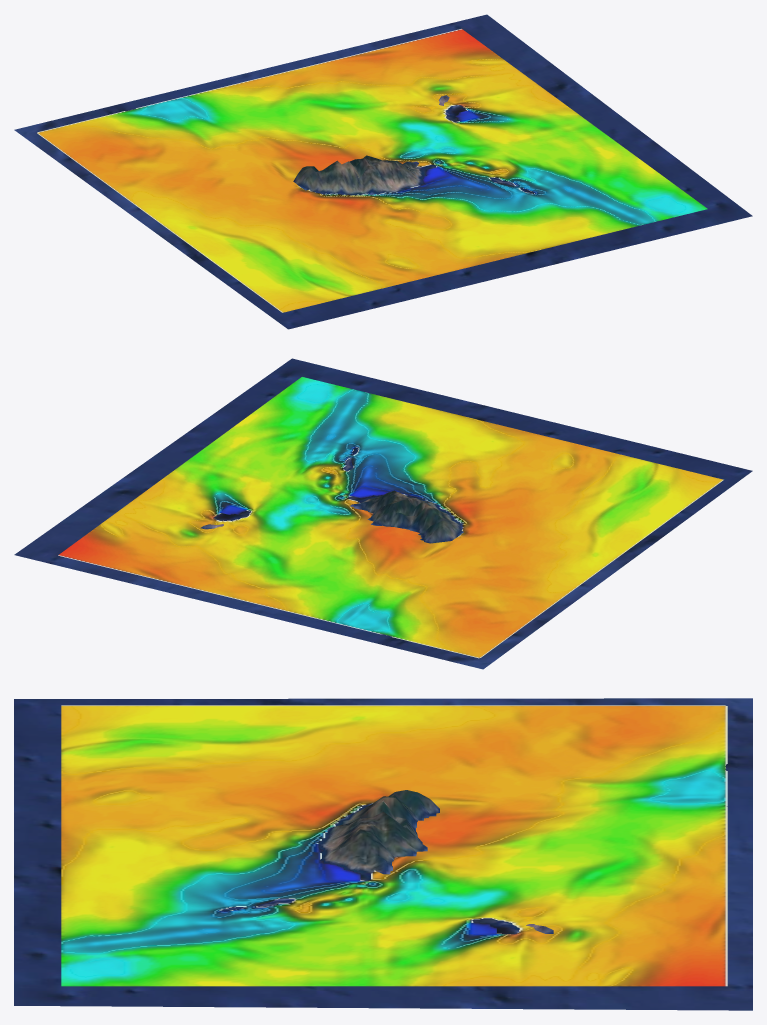
File: madeira_map.fbx
3 renders of one model, top to bottom at view 1: azimuth 30°, elevation 25°; view 2: azimuth 150°, elevation 25°; view 3: azimuth 270°, elevation 25°, orthographic. The views are drawn at different scales.
Parts seen in each view (by area): view 1: wave1_new2, EXPORT_GOOGLE_SAT_WM; view 2: wave1_new2, EXPORT_GOOGLE_SAT_WM; view 3: wave1_new2, EXPORT_GOOGLE_SAT_WM.
Boxes of the visible parts, <box> form: wave1_new2: <box>37,29,707,312</box>; EXPORT_GOOGLE_SAT_WM: <box>14,14,752,329</box>; wave1_new2: <box>58,377,723,658</box>; EXPORT_GOOGLE_SAT_WM: <box>14,358,752,669</box>; wave1_new2: <box>61,705,727,986</box>; EXPORT_GOOGLE_SAT_WM: <box>14,698,752,1010</box>.
Size of the model in its own units: 48800 by 2000 by 48800.
Materials: 2 (2 with a texture image).
